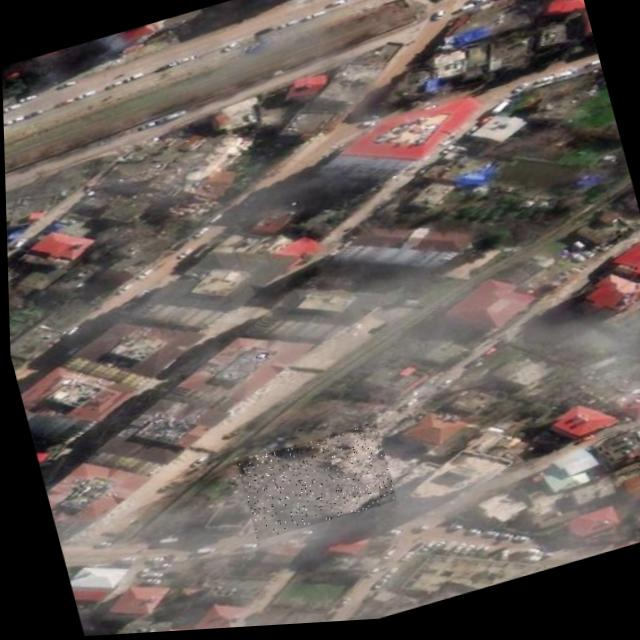Rubble: (232, 424, 394, 543)
